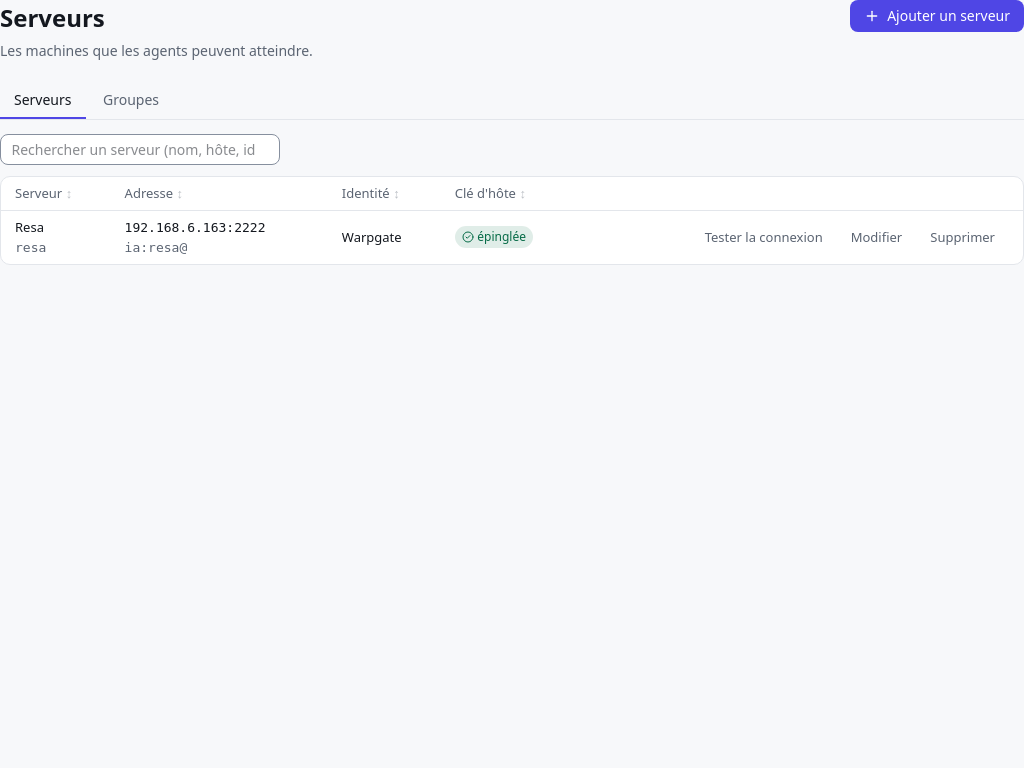
Scenario: utilisateur SSH par serveur › le formulaire pré-remplit et envoie ssh_user (cas Warpgate « utilisateur:cible »)
Later steps or results of the test are not shown.
Expected: the text "ia:resa@" is shown, [125,240,187,254]
Click the button "Modifier". click: (876, 238)
box: [837,222,916,253]
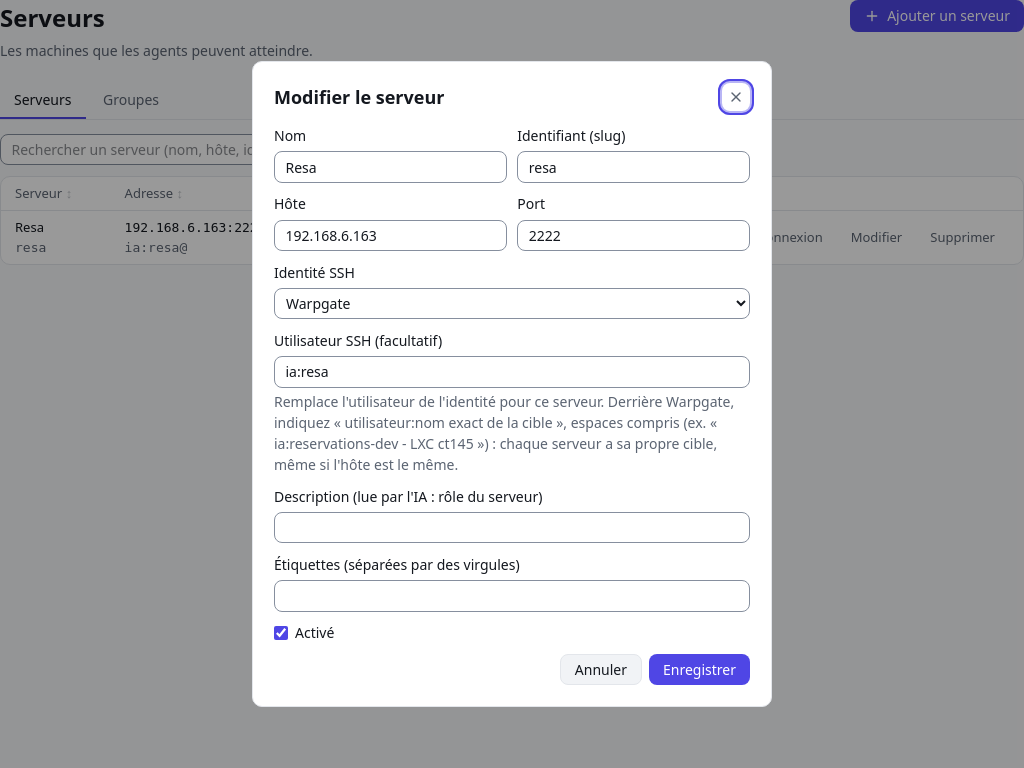
Result: the field labelled "Utilisateur SSH (facultatif)" holds "ia:resa" at [274,356,750,388]
